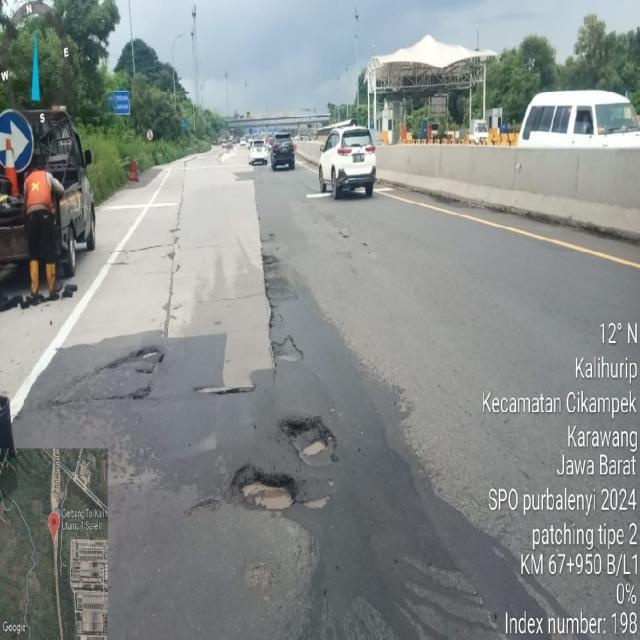Buraco: (220, 461, 336, 514), (276, 414, 342, 469), (94, 343, 170, 378), (269, 333, 306, 365), (102, 383, 156, 402), (192, 383, 260, 397)
